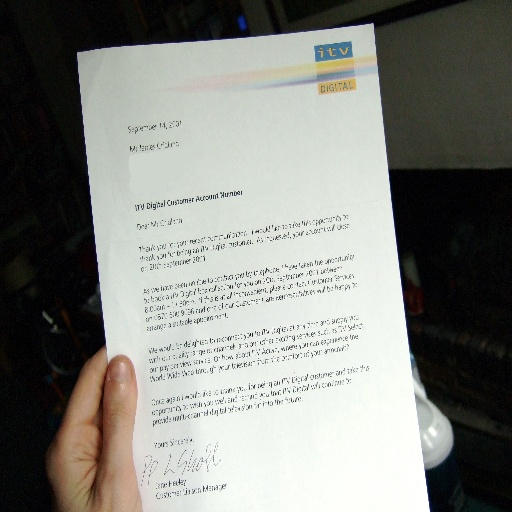hand: (33, 350, 154, 504)
